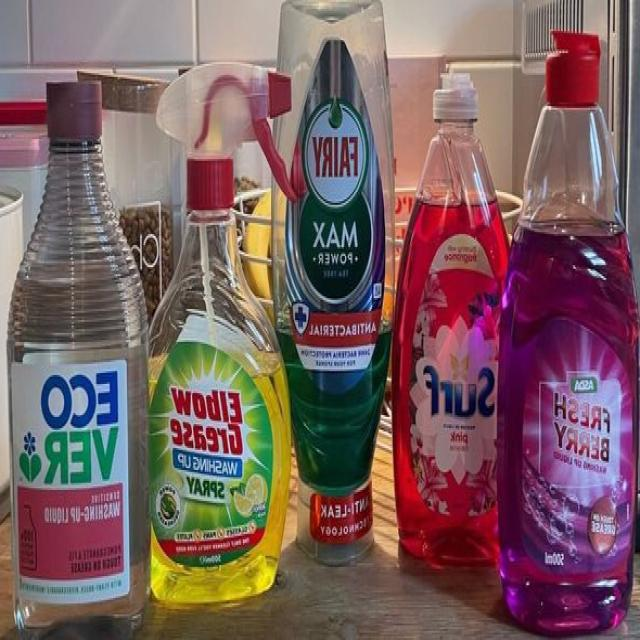plastic: (498, 32, 635, 632), (152, 58, 296, 604), (7, 83, 148, 623), (274, 0, 394, 549), (393, 73, 506, 569)
